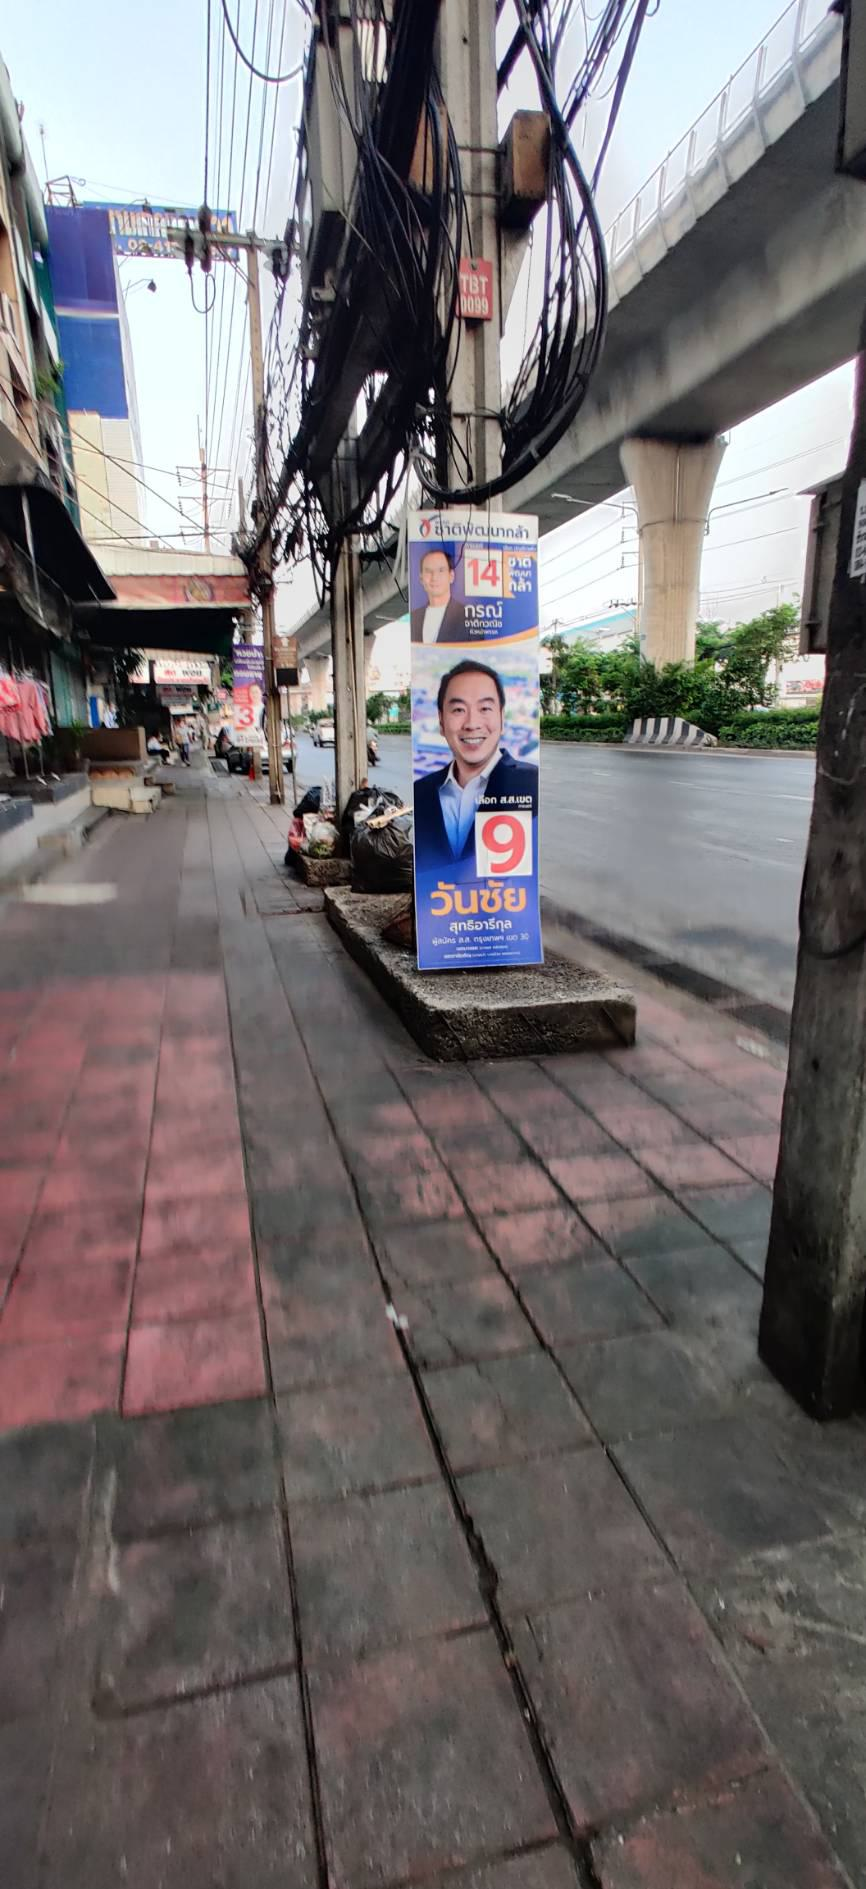Banner: (403, 504, 548, 971)
